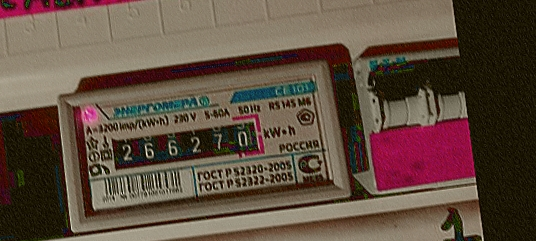0: (234, 127, 247, 148)
2: (117, 140, 134, 163), (187, 133, 202, 155)
6: (140, 139, 155, 161), (164, 136, 179, 157)
7: (210, 130, 224, 151)
screen: (95, 105, 274, 183)
